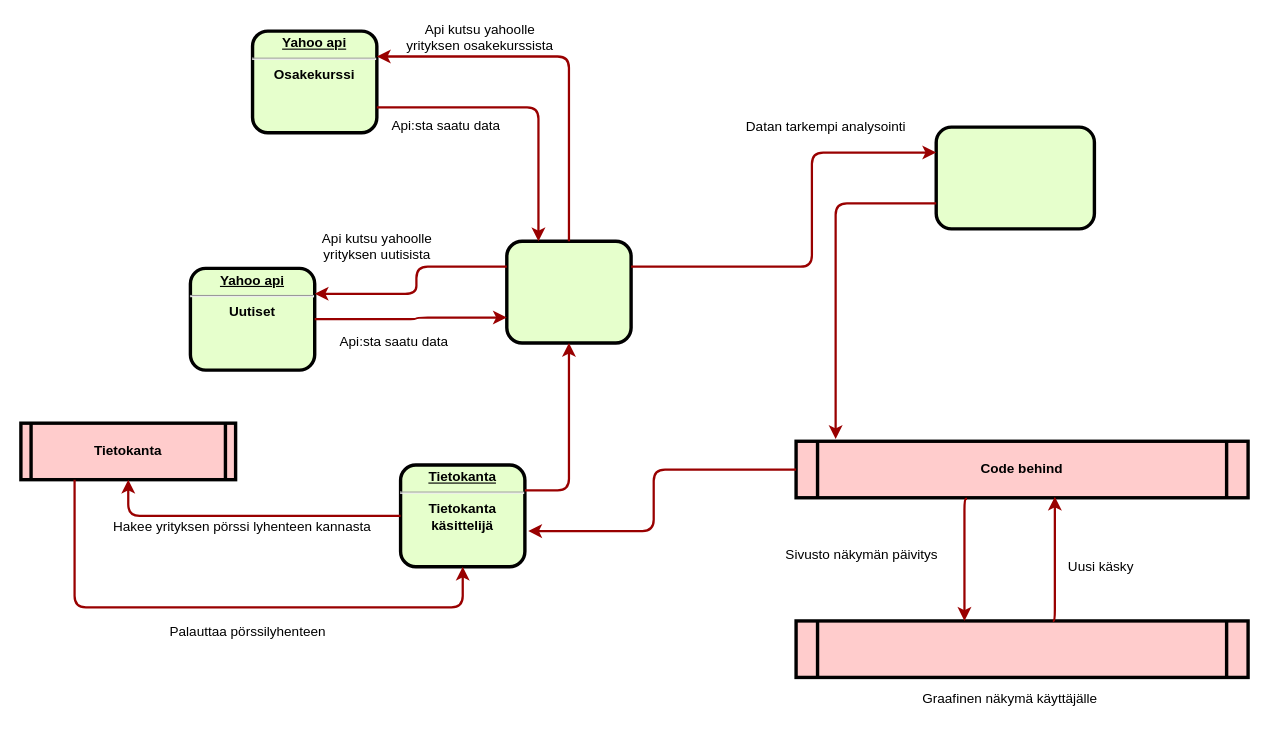
Some shapes in this 1269 by 730 pixel diagram are drawn without their labels. The box of each missing label's shape, as (x1, y1, x2, y2) in pixels:
Analysointi Datan analysointi ja parseaus: (934, 125, 1096, 230)
Front UI: (794, 619, 1249, 679)
Yahoo api Yahoo rajapinta käsittelijä: (505, 239, 632, 344)
